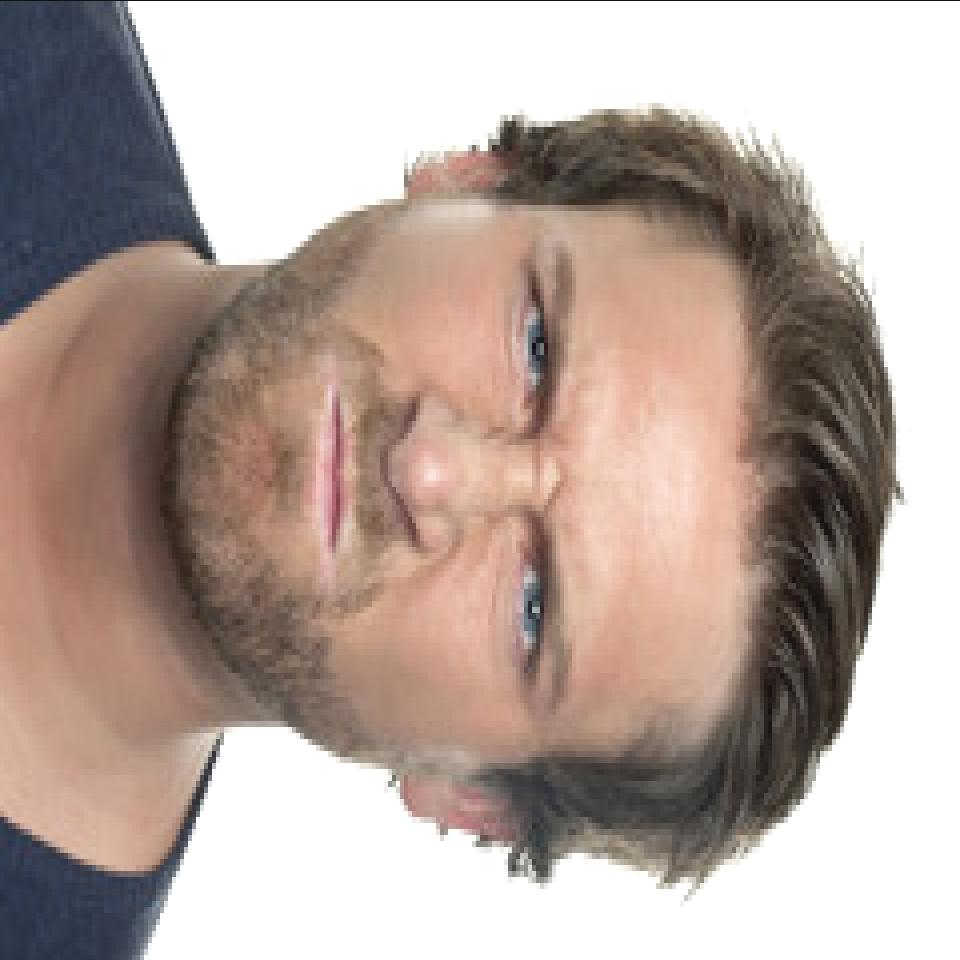Anger: (192, 136, 763, 848)
